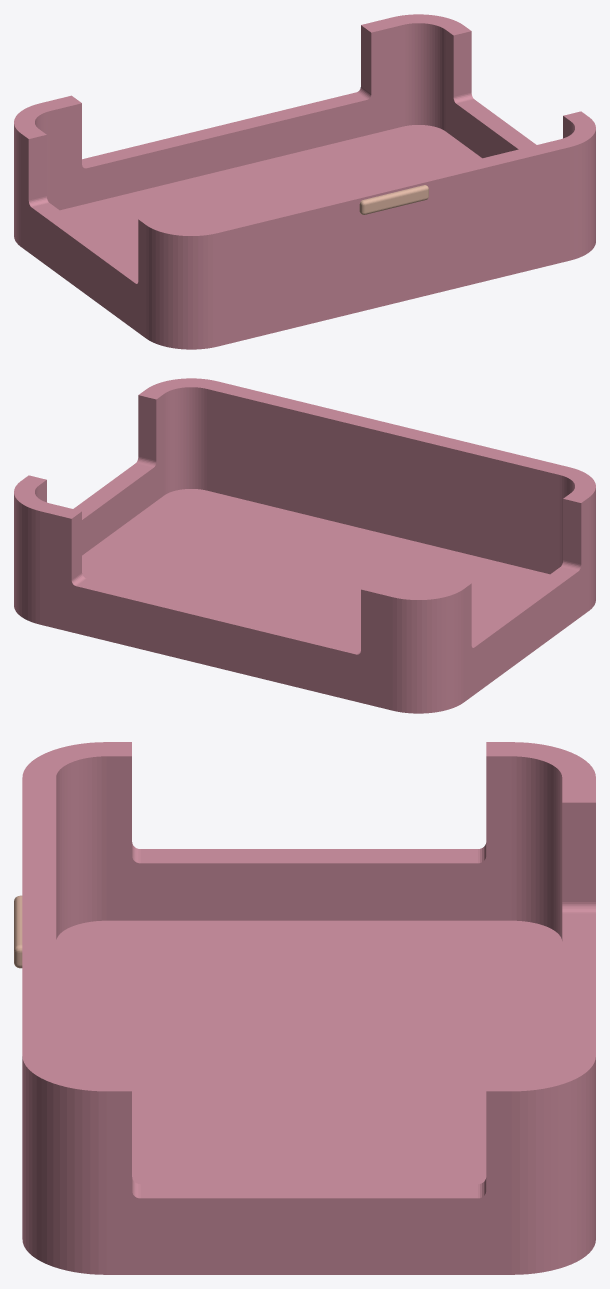
Rendered from compact-base.glb.
3 views of the same model, one above another, from view 1: azimuth 30°, elevation 25°; view 2: azimuth 150°, elevation 25°; view 3: azimuth 270°, elevation 25° (orthographic). The views are drawn at different scales.
Parts seen in each view (by area): view 1: Compact base, Front clasp allowance; view 2: Compact base; view 3: Compact base.
Part boxes in pixels (x1=…): Compact base: x1=14, y1=14, x2=595, y2=349; Front clasp allowance: x1=359, y1=185, x2=428, y2=214; Compact base: x1=14, y1=378, x2=595, y2=713; Compact base: x1=22, y1=742, x2=595, y2=1274.
Bounding box in the file's own units: 98 × 24 × 69.
